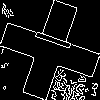I: (25, 25, 72, 52)
